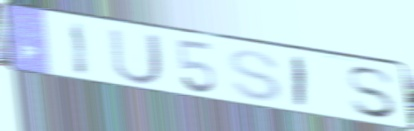5: (174, 38, 218, 95)
I: (69, 20, 92, 80), (292, 54, 309, 111)
S: (226, 48, 286, 104), (343, 64, 401, 121)
U: (106, 26, 167, 87)
